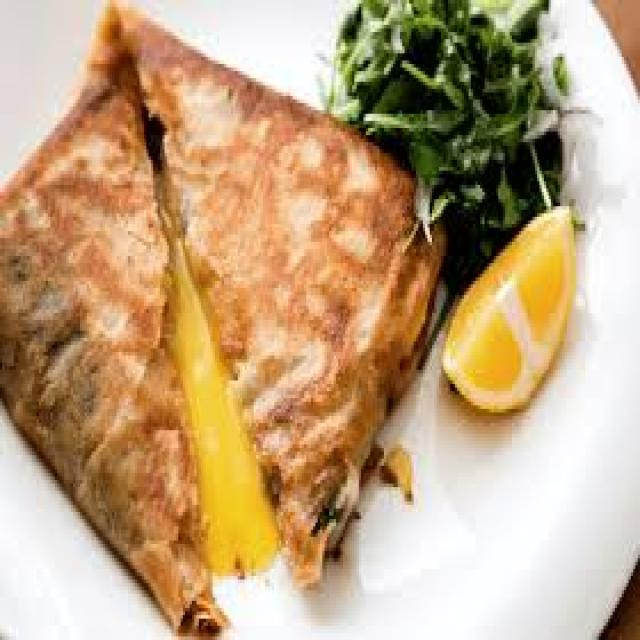brik: (134, 15, 431, 577), (0, 19, 206, 640)
